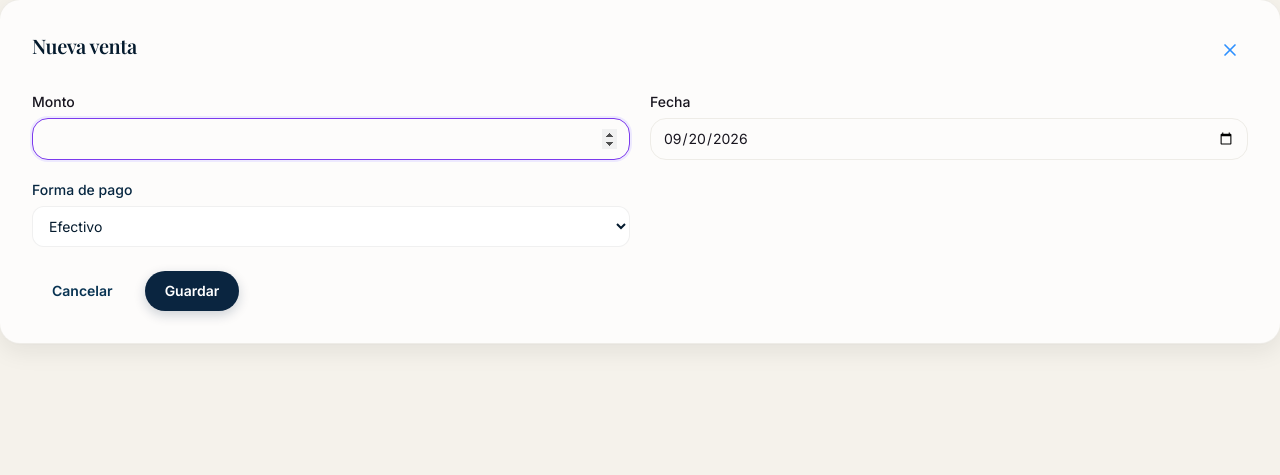
Test: VentaForm — a fiado needs a customer (task 6.3) › blocks submission when CUENTA_CORRIENTE is selected and no customer is chosen
Select "Cuenta corriente" in the dropdown labelled "Forma de pago" at (331, 226), box [32,206,630,247]
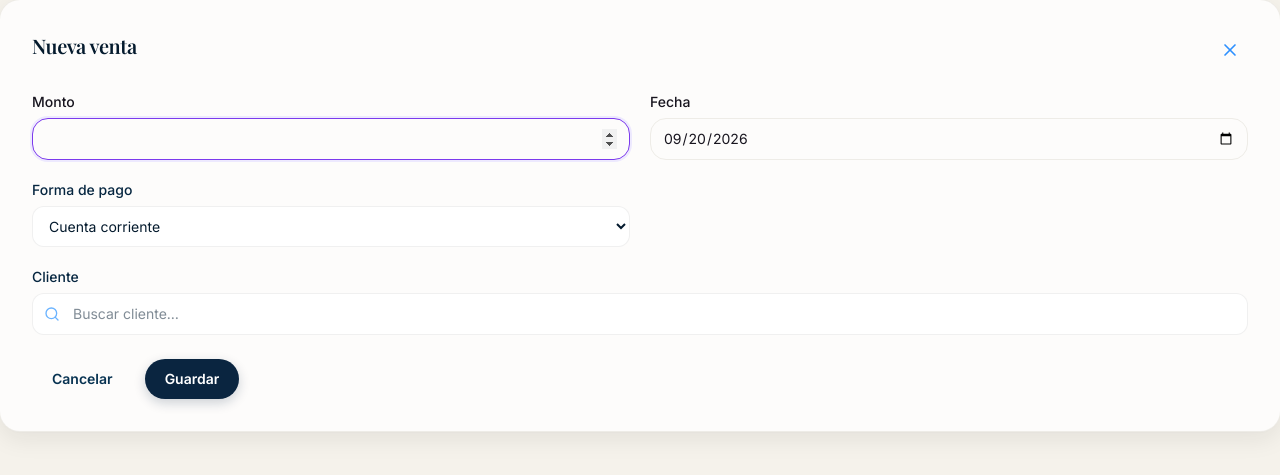
Type "2026-08-10" into the date field with id "fecha" at (949, 139), box [650,118,1248,160]
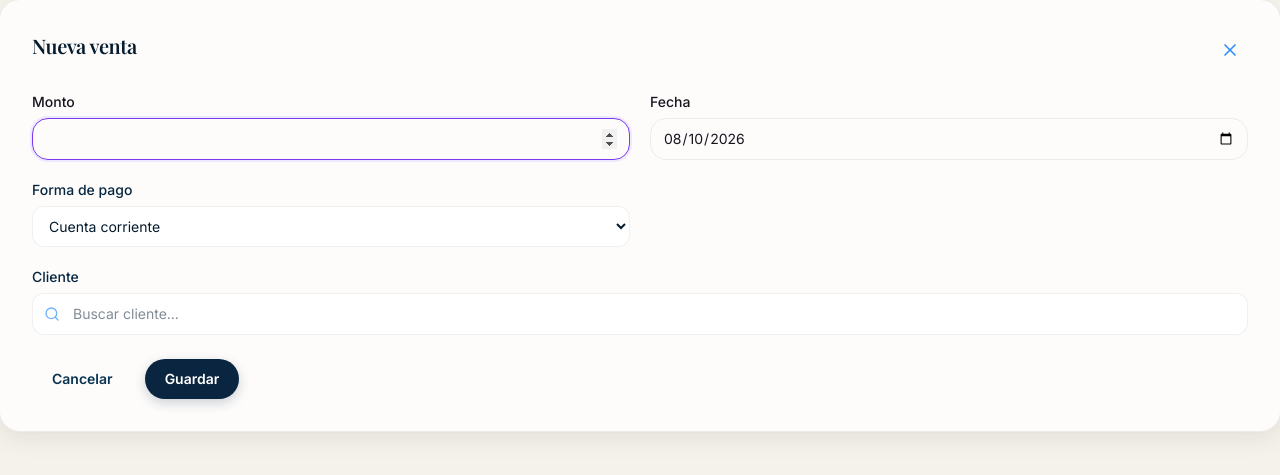
Type "1000" into the number field labelled "Monto" at (331, 139), box [32,118,630,160]
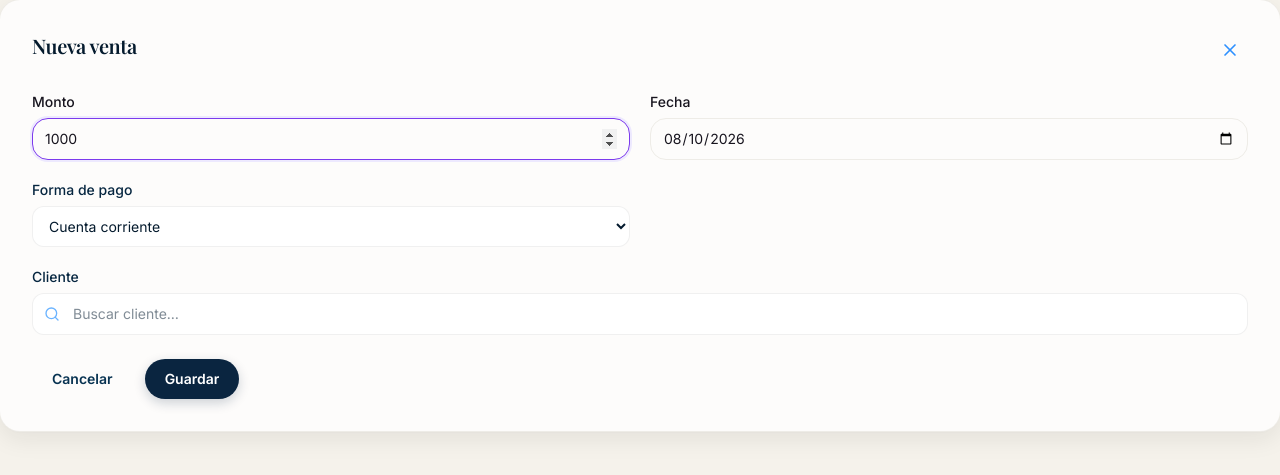
Click the button "Guardar" at (192, 379), box [145,359,239,399]
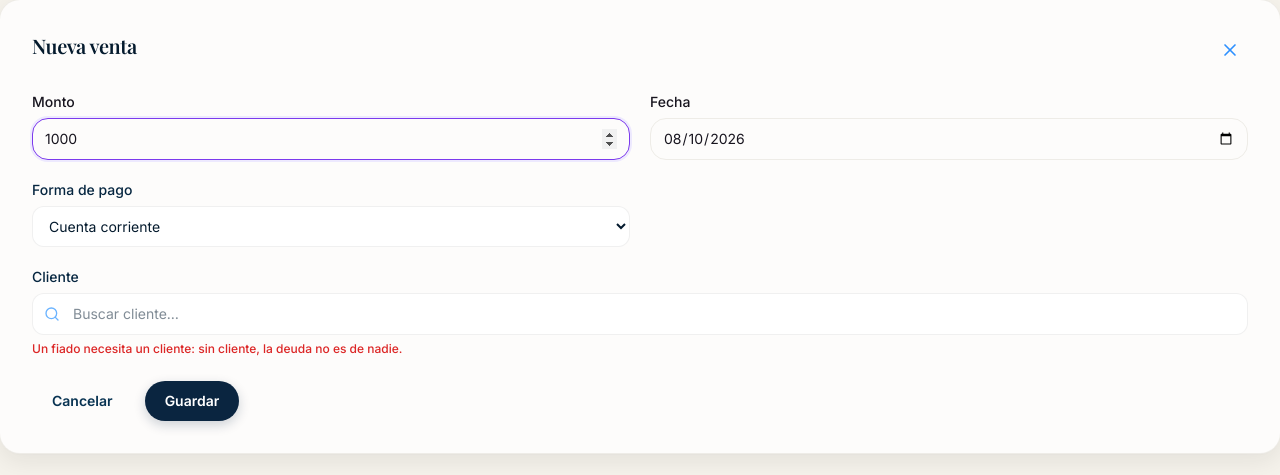
expect the message shows "fiado": met, box [32,341,402,356]
expect the message shows "cliente": met, box [32,341,402,356]
